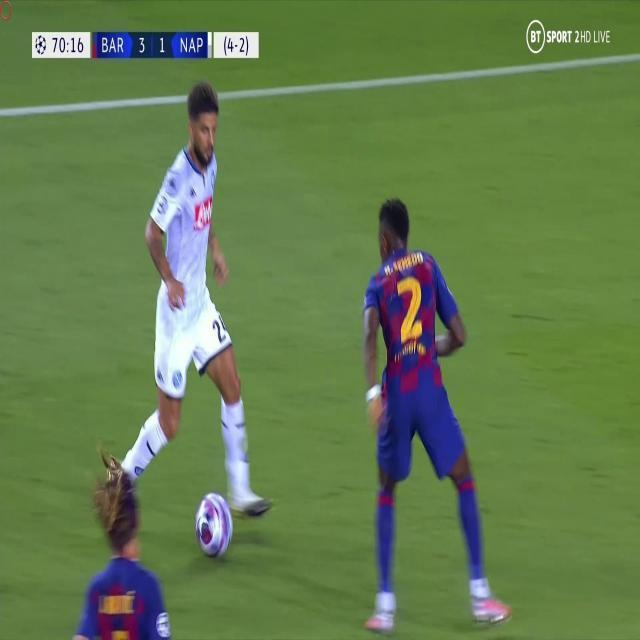ball: (188, 484, 238, 565)
player: (74, 55, 277, 618), (343, 182, 506, 627), (71, 439, 175, 638)
